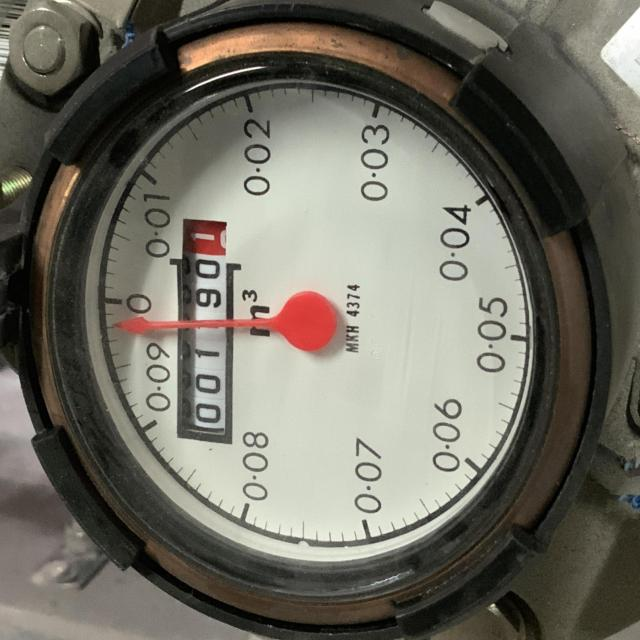gaz_meter: (79, 76, 536, 574)
indication: (179, 218, 233, 442)
